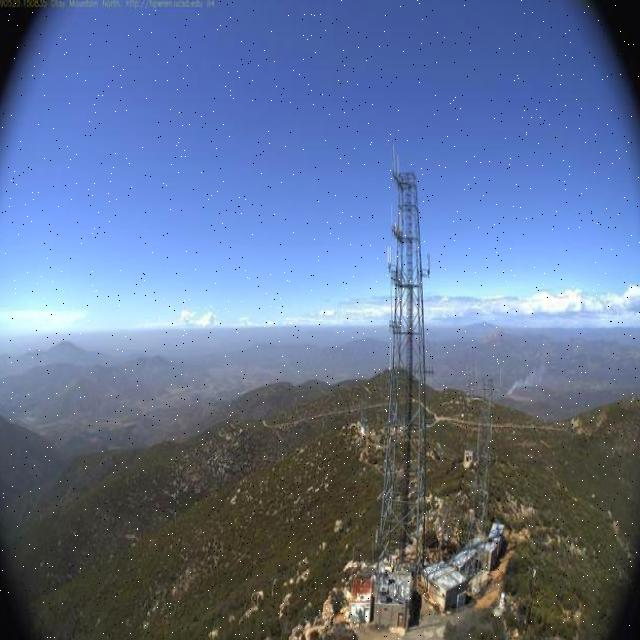smoke: (502, 350, 568, 402)
